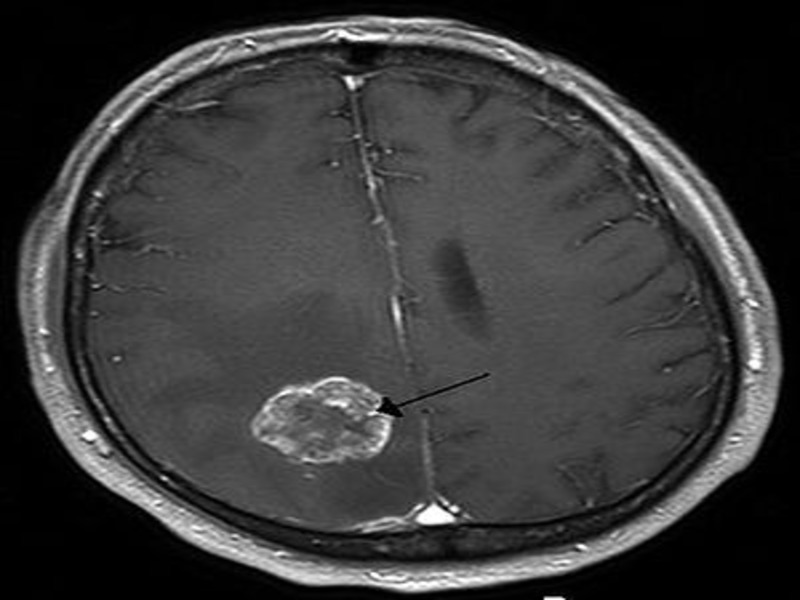tumor: (248, 374, 401, 474)
